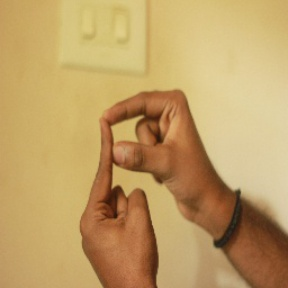P: (77, 83, 196, 238)
